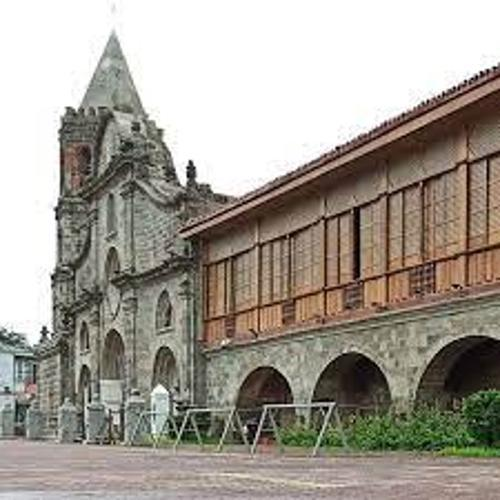Barasoain Church: (36, 12, 208, 449)
